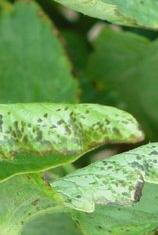Tomato leaf bacterial spot: (47, 94, 158, 235), (0, 98, 153, 186)
